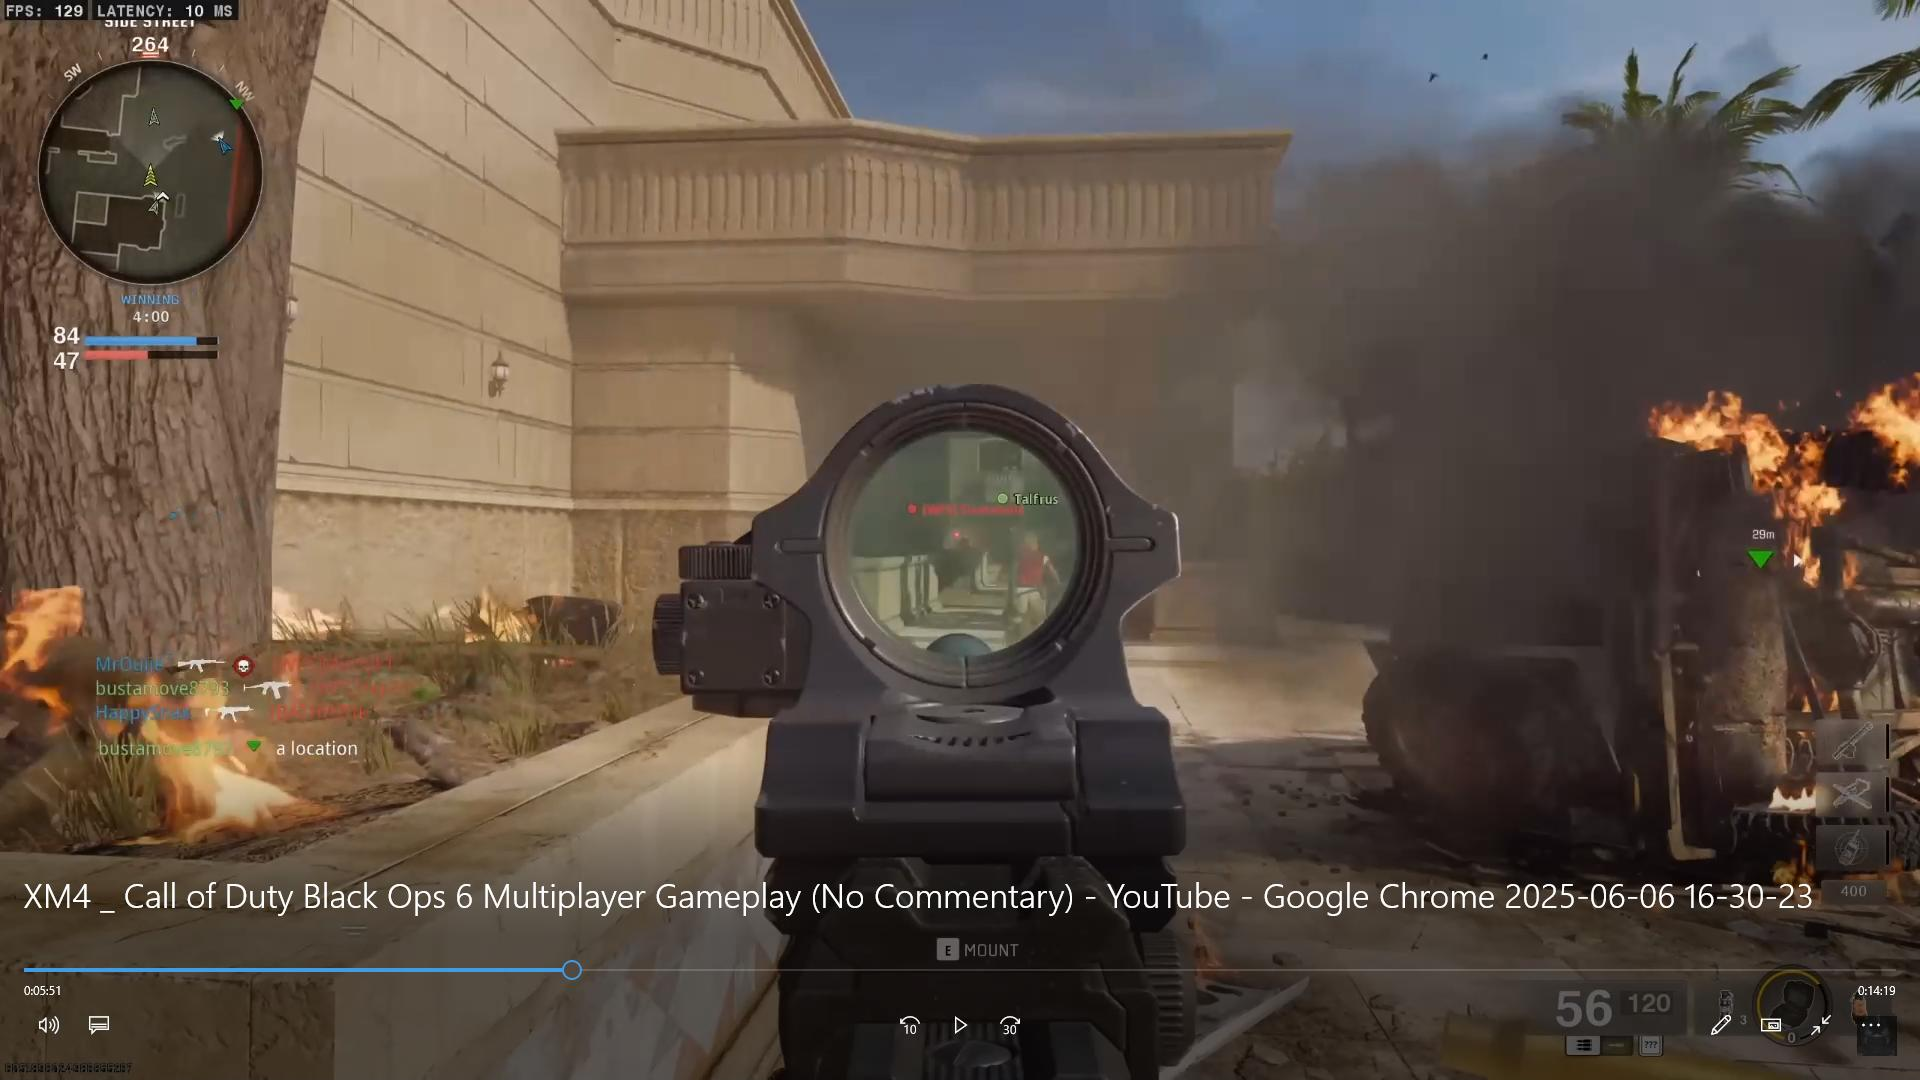Enemy: (1001, 526, 1059, 622)
